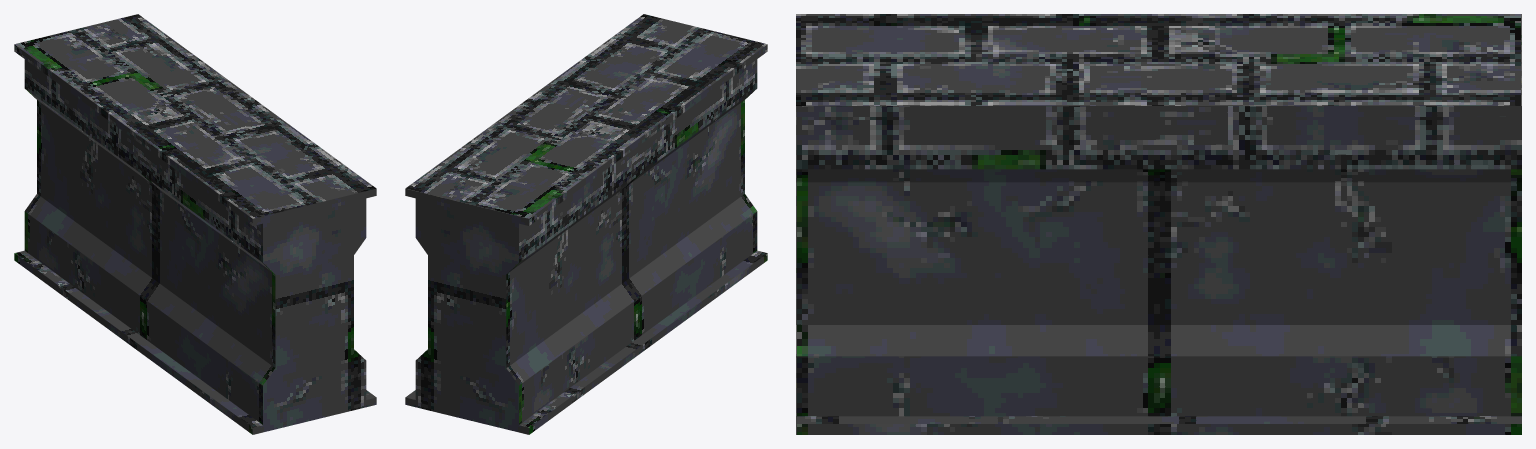
Rendered from wall_1m_02.gltf.
The picture shows the model from 3 angles, left to right: view 1: azimuth 30°, elevation 25°; view 2: azimuth 150°, elevation 25°; view 3: azimuth 270°, elevation 25°; orthographic projection. The views are drawn at different scales.
Parts seen in each view (by area): view 1: wall_1m_02; view 2: wall_1m_02; view 3: wall_1m_02.
Boxes of the visible parts, x1=… form: wall_1m_02: x1=14, y1=14, x2=376, y2=434; wall_1m_02: x1=405, y1=14, x2=767, y2=434; wall_1m_02: x1=796, y1=14, x2=1521, y2=434.
Bounding box in the file's own units: 0.6 × 1 × 2.
1 material, 1 textured.
